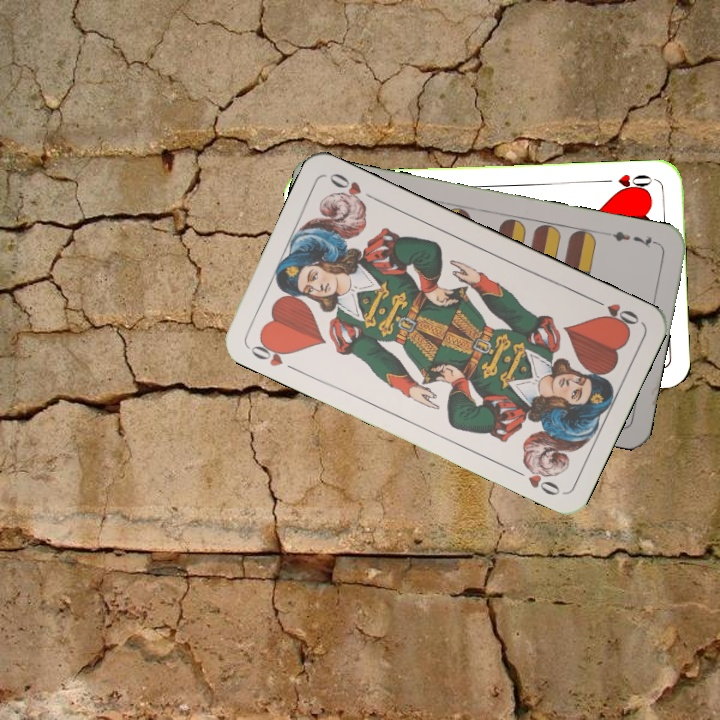E7: (602, 226, 661, 251)
HO: (587, 294, 642, 331), (245, 334, 294, 369), (598, 170, 657, 195)
